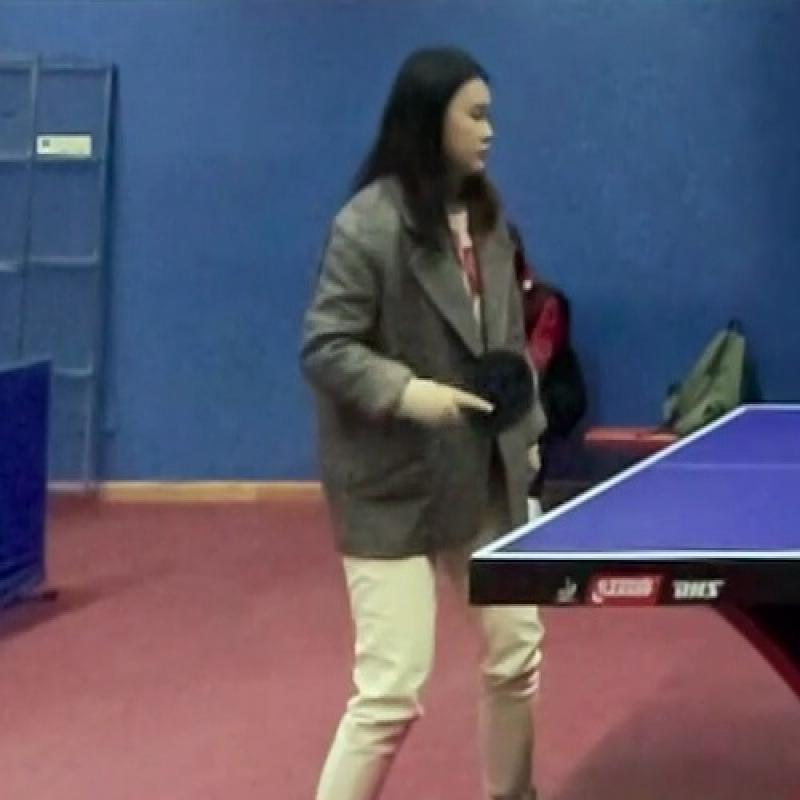bats: (450, 350, 542, 437)
